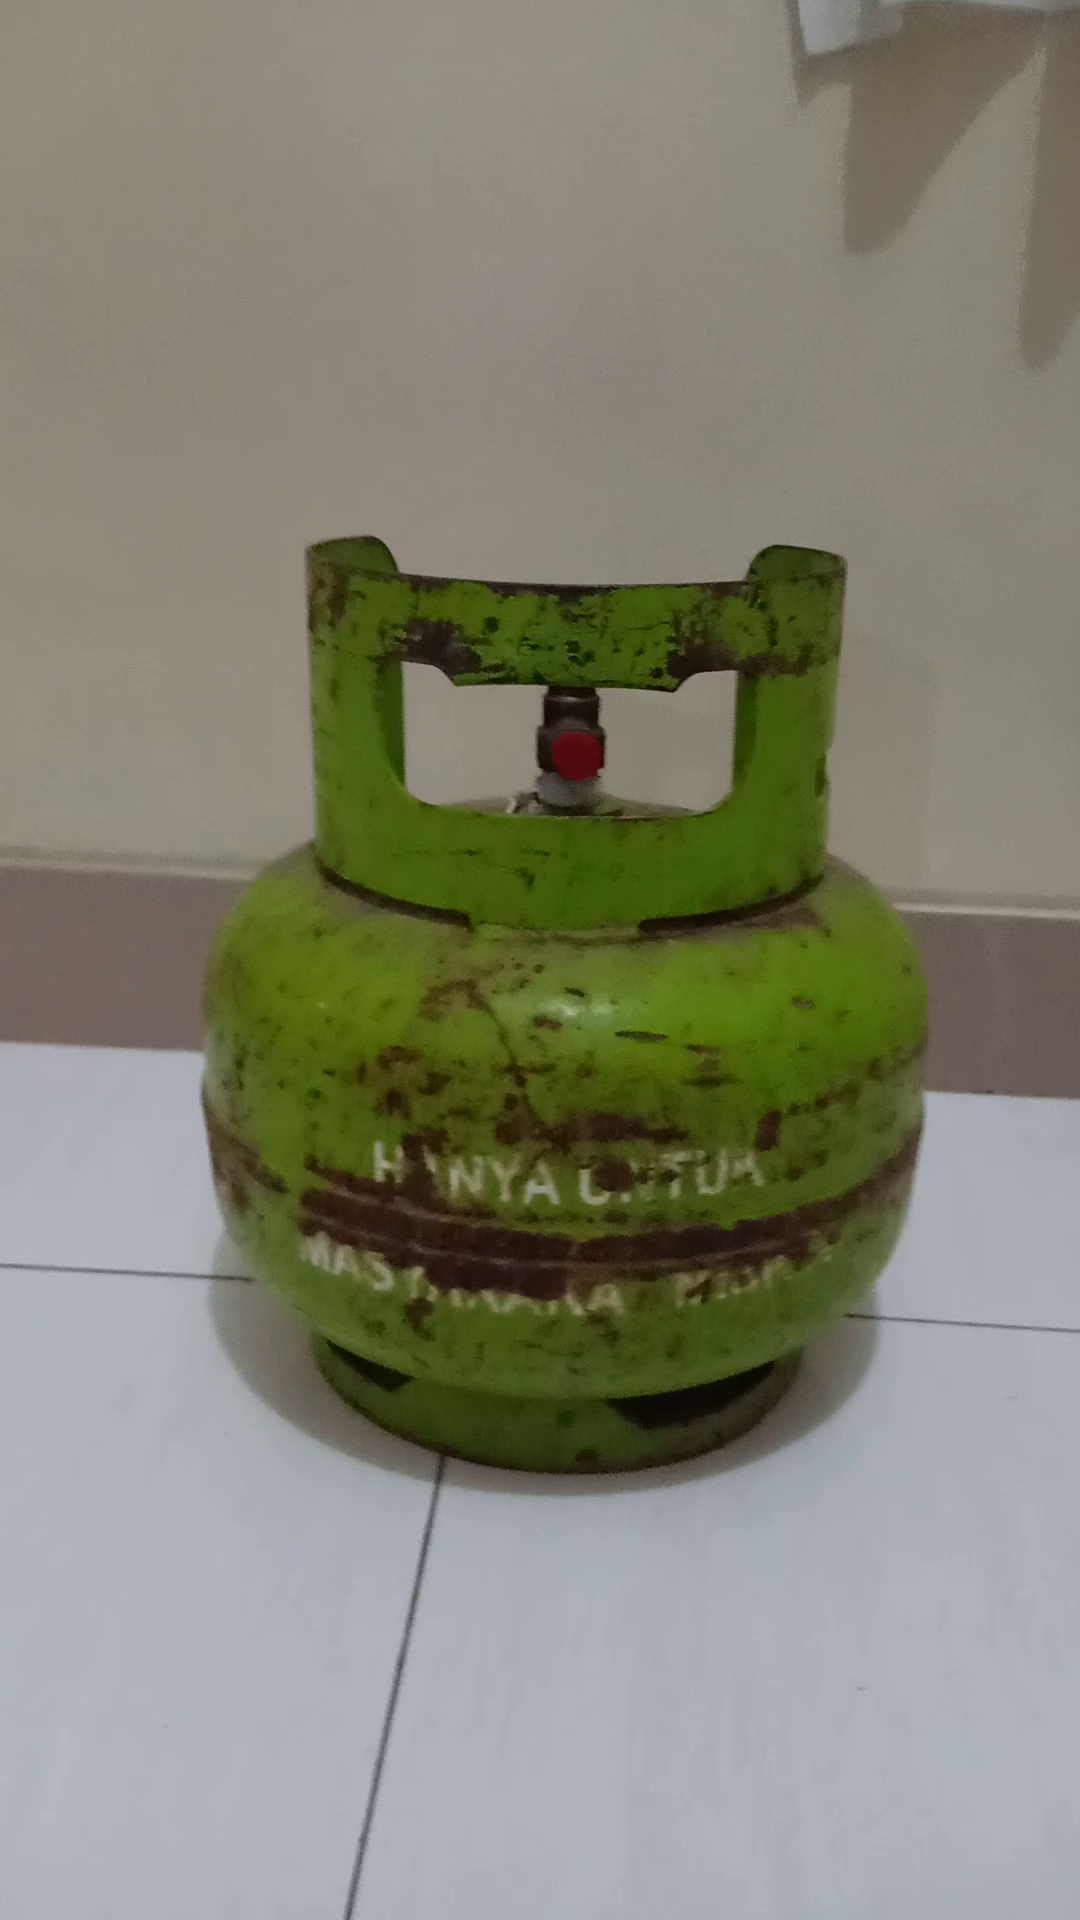gas_ijo: (198, 534, 934, 1474)
